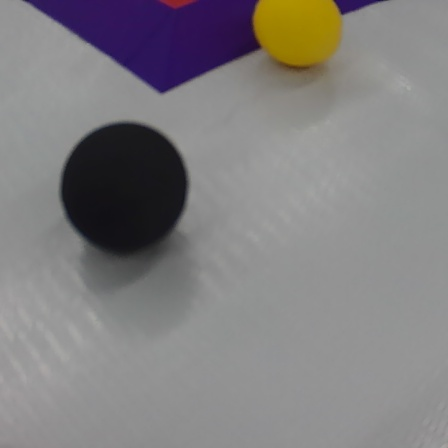black: (58, 119, 193, 251)
red_aim: (0, 0, 393, 103)
yellow: (245, 0, 357, 73)
